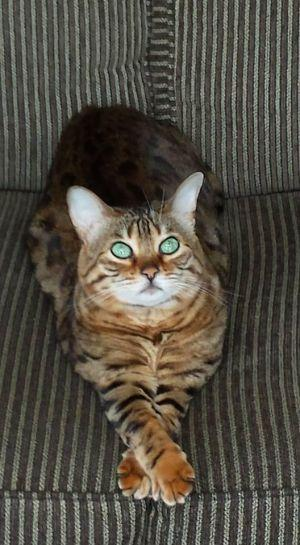bengal: (60, 168, 226, 323)
